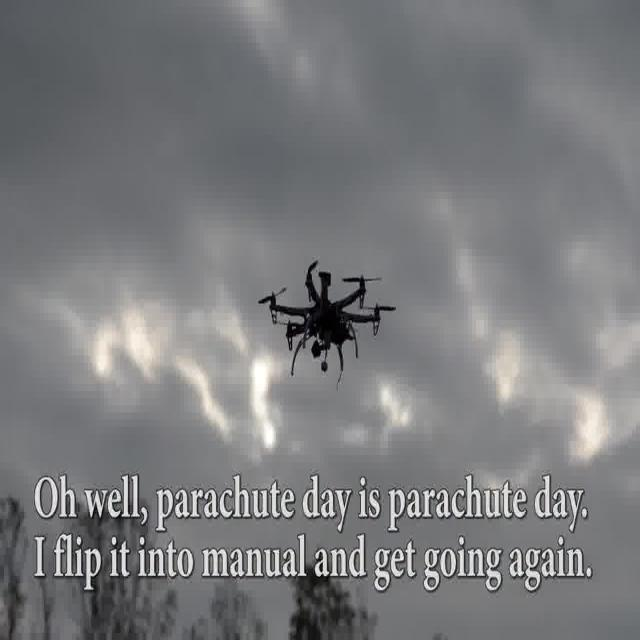drone: (255, 254, 395, 393)
